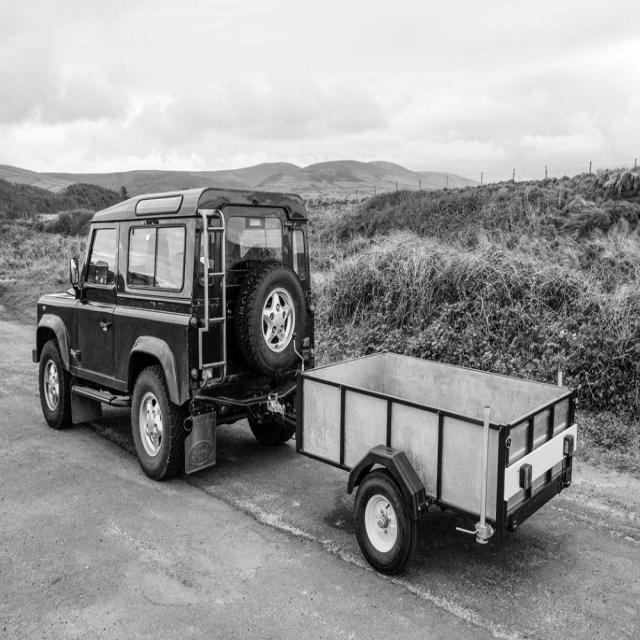SUV: (32, 187, 316, 483)
Trailer: (268, 352, 578, 578)
